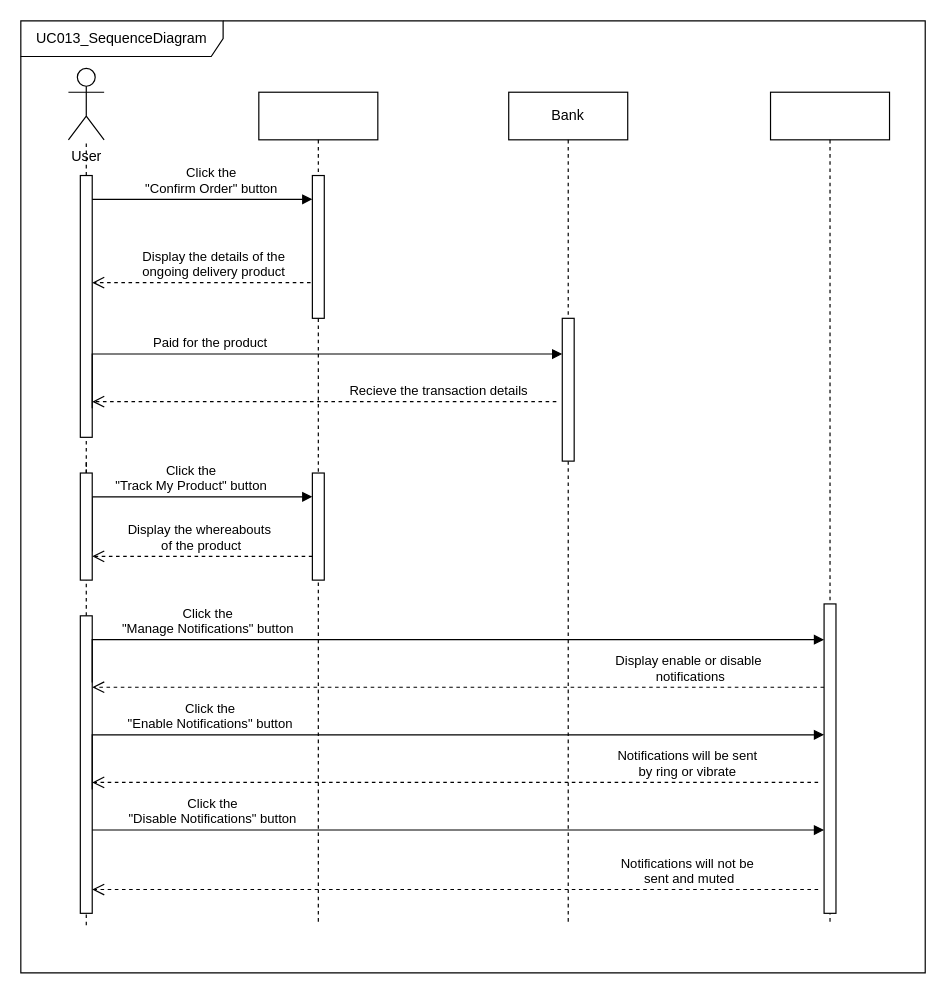
Some shapes in this 946 by 994 pixel diagram are drawn without their labels. Each missing label, with the box of its shape:
Check-Out Product: (258, 91, 378, 925)
Notifications: (769, 91, 890, 925)
